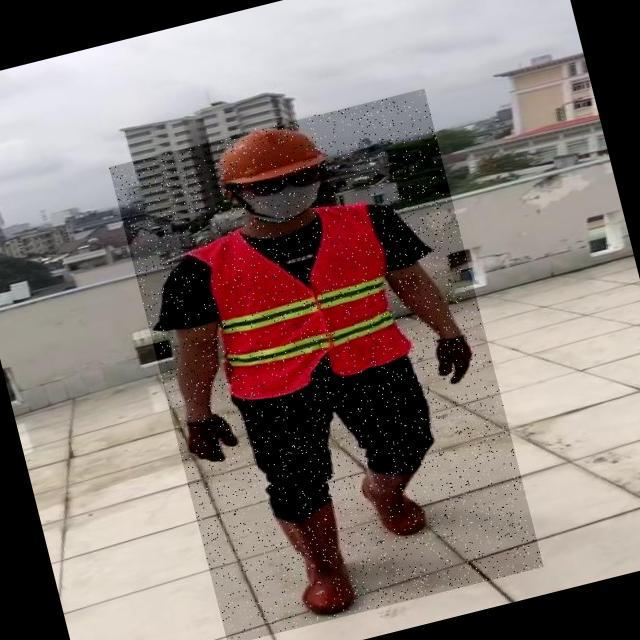Gloves: (181, 411, 241, 468), (433, 331, 480, 386)
Helmet: (206, 113, 329, 189)
Human: (108, 88, 543, 640)
Safety Boot: (274, 504, 362, 621), (355, 456, 431, 544)
Safety Vest: (191, 195, 416, 406)
